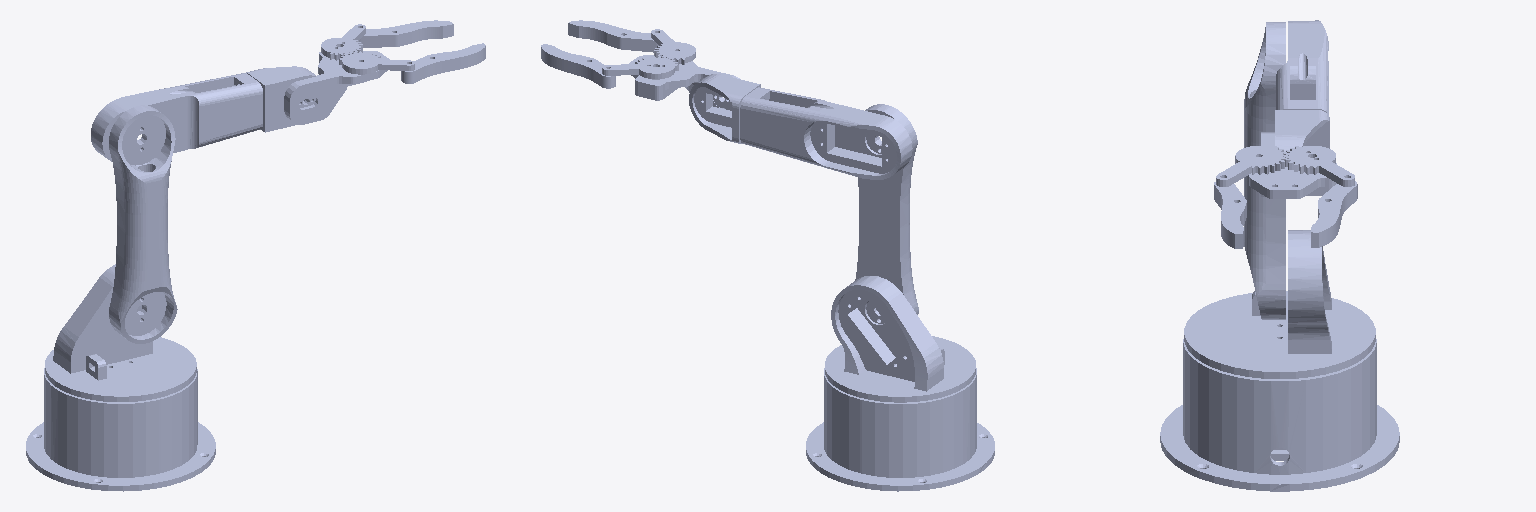
The robot description file, URDF, robot "robot_arm":
<?xml version="1.0" encoding="utf-8" ?>
<!-- This URDF was automatically created by SolidWorks to URDF Exporter! Originally created by [author] ([email redacted]) 
     Commit Version: 1.6.0-4-g7f85cfe  Build Version: 1.6.7995.38578
     For more information, please see http://wiki.ros.org/sw_urdf_exporter -->
<robot name="robot_arm">
    <link name="world" />
    <joint name="base_joint" type="fixed">
        <parent link="world" />
        <child link="base_link" />
        <origin rpy="0 0 0" xyz="0.0 0.0 0.0" />
    </joint>
    <link name="base_link">
        <inertial>
            <origin xyz="0.0001172 -3.0598E-09 0.022304" rpy="0 0 0" />
            <mass value="1.0" />
            <inertia ixx="0.00012799" ixy="-2.1831E-11" ixz="3.914E-06" iyy="0.00013766" iyz="4.0541E-13" izz="0.00020798" />
        </inertial>
        <visual>
            <origin xyz="0 0 0" rpy="0 0 0" />
            <geometry>
                <mesh filename="package://robot_arm/meshes/base_link.STL" />
            </geometry>
            <material name="">
                <color rgba="0.79216 0.81961 0.93333 1" />
            </material>
        </visual>
        <collision>
            <origin xyz="0 0 0" rpy="0 0 0" />
            <geometry>
                <mesh filename="package://robot_arm/meshes/base_link.STL" />
            </geometry>
        </collision>
    </link>
    <link name="link_1">
        <inertial>
            <origin xyz="0.001372 0.0064346 0.074289" rpy="0 0 0" />
            <mass value="0.068038" />
            <inertia ixx="4.5019E-05" ixy="-6.4175E-07" ixz="-6.2429E-06" iyy="5.8134E-05" iyz="-5.1774E-06" izz="5.4676E-05" />
        </inertial>
        <visual>
            <origin xyz="0 0 0" rpy="0 0 0" />
            <geometry>
                <mesh filename="package://robot_arm/meshes/link_1.STL" />
            </geometry>
            <material name="">
                <color rgba="0.79216 0.81961 0.93333 1" />
            </material>
        </visual>
        <collision>
            <origin xyz="0 0 0" rpy="0 0 0" />
            <geometry>
                <mesh filename="package://robot_arm/meshes/link_1.STL" />
            </geometry>
        </collision>
    </link>
    <joint name="joint_1" type="revolute">
        <origin xyz="0 0 0" rpy="0 0 0" />
        <parent link="base_link" />
        <child link="link_1" />
        <axis xyz="0 0 1" />
        <limit lower="-1.5708" upper="1.5708" effort="300" velocity="1" />
    </joint>
    <link name="link_2">
        <inertial>
            <origin xyz="-0.011661 0.058045 0.0047891" rpy="0 0 0" />
            <mass value="0.063887" />
            <inertia ixx="0.00010322" ixy="1.8909E-05" ixz="-4.7176E-08" iyy="1.29E-05" iyz="2.338E-07" izz="0.00011183" />
        </inertial>
        <visual>
            <origin xyz="0 0 0" rpy="0 0 -0.19634954" />
            <geometry>
                <mesh filename="package://robot_arm/meshes/link_2.STL" />
            </geometry>
            <material name="">
                <color rgba="0.79216 0.81961 0.93333 1" />
            </material>
        </visual>
        <collision>
            <origin xyz="0 0 0" rpy="0 0 0" />
            <geometry>
                <mesh filename="package://robot_arm/meshes/link_2.STL" />
            </geometry>
        </collision>
    </link>
    <joint name="joint_2" type="revolute">
        <origin xyz="0.013919 0 0.097276" rpy="1.5708 0 0" />
        <parent link="link_1" />
        <child link="link_2" />
        <axis xyz="0 0 -1" />
        <limit lower="-1.5708" upper="1.5708" effort="300" velocity="1" />
    </joint>
    <link name="link_3">
        <inertial>
            <origin xyz="-0.014622 -0.054484 -0.010131" rpy="0 0 0" />
            <mass value="0.066769" />
            <inertia ixx="5.5428E-05" ixy="-1.1589E-05" ixz="7.8249E-08" iyy="1.4985E-05" iyz="2.7745E-07" izz="6.3172E-05" />
        </inertial>
        <visual>
            <origin xyz="0 0 0" rpy="0 0 0.26145032" />
            <geometry>
                <mesh filename="package://robot_arm/meshes/link_3.STL" />
            </geometry>
            <material name="">
                <color rgba="0.79216 0.81961 0.93333 1" />
            </material>
        </visual>
        <collision>
            <origin xyz="0 0 0" rpy="0 0 0" />
            <geometry>
                <mesh filename="package://robot_arm/meshes/link_3.STL" />
            </geometry>
        </collision>
    </link>
    <joint name="joint_3" type="revolute">
        <origin xyz="0 0.12 0" rpy="0 0 1.5708" />
        <parent link="link_2" />
        <child link="link_3" />
        <axis xyz="0 0 -1" />
        <limit lower="-1.5708" upper="1.5708" effort="300" velocity="1" />
    </joint>
    <link name="link_4">
        <inertial>
            <origin xyz="0.043213 -0.025797 -0.00098479" rpy="0 0 0" />
            <mass value="0.031724" />
            <inertia ixx="6.1359E-06" ixy="4.5077E-06" ixz="1.1136E-06" iyy="9.506E-06" iyz="-5.5901E-07" izz="1.1066E-05" />
        </inertial>
        <visual>
            <origin xyz="0 0 0" rpy="0 0 0.75" />
            <geometry>
                <mesh filename="package://robot_arm/meshes/link_4.STL" />
            </geometry>
            <material name="">
                <color rgba="0.79216 0.81961 0.93333 1" />
            </material>
        </visual>
        <collision>
            <origin xyz="0 0 0" rpy="0 0 0" />
            <geometry>
                <mesh filename="package://robot_arm/meshes/link_4.STL" />
            </geometry>
        </collision>
    </link>
    <joint name="joint_4" type="revolute">
        <origin xyz="0 -0.11875 0" rpy="0 0 -1.5708" />
        <parent link="link_3" />
        <child link="link_4" />
        <axis xyz="0 0 1" />
        <limit lower="-1.5708" upper="1.5708" effort="300" velocity="1" />
    </joint>
    <transmission name="link_1_trans">
        <type>transmission_interface/SimpleTransmission</type>
        <joint name="joint_1">
            <hardwareInterface>hardware_interface/PositionJointInterface</hardwareInterface>
        </joint>
        <actuator name="link_1_motor">
            <hardwareInterface>hardware_interface/PositionJointInterface</hardwareInterface>
            <mechanicalReduction>1</mechanicalReduction>
        </actuator>
    </transmission>
    <transmission name="link_2_trans">
        <type>transmission_interface/SimpleTransmission</type>
        <joint name="joint_2">
            <hardwareInterface>hardware_interface/PositionJointInterface</hardwareInterface>
        </joint>
        <actuator name="link_2_motor">
            <hardwareInterface>hardware_interface/PositionJointInterface</hardwareInterface>
            <mechanicalReduction>1</mechanicalReduction>
        </actuator>
    </transmission>
    <transmission name="link_3_trans">
        <type>transmission_interface/SimpleTransmission</type>
        <joint name="joint_3">
            <hardwareInterface>hardware_interface/PositionJointInterface</hardwareInterface>
        </joint>
        <actuator name="link_3_motor">
            <hardwareInterface>hardware_interface/PositionJointInterface</hardwareInterface>
            <mechanicalReduction>1</mechanicalReduction>
        </actuator>
    </transmission>
    <transmission name="link_4_trans">
        <type>transmission_interface/SimpleTransmission</type>
        <joint name="joint_4">
            <hardwareInterface>hardware_interface/PositionJointInterface</hardwareInterface>
        </joint>
        <actuator name="link_4_motor">
            <hardwareInterface>hardware_interface/PositionJointInterface</hardwareInterface>
            <mechanicalReduction>1</mechanicalReduction>
        </actuator>
    </transmission>
    <gazebo>
        <plugin name="control" filename="libgazebo_ros_control.so">
            <robotNamespace>/</robotNamespace>
        </plugin>
        <plugin name="gazebo_ros_control">
            <robotNamespace>/</robotNamespace>
        </plugin>
    </gazebo>
    <gazebo reference="link_1">
        <selfCollide>true</selfCollide>
    </gazebo>
    <gazebo reference="link_2">
        <selfCollide>true</selfCollide>
    </gazebo>
    <gazebo reference="link_3">
        <selfCollide>true</selfCollide>
    </gazebo>
    <gazebo reference="link_4">
        <selfCollide>true</selfCollide>
    </gazebo>
</robot>

--- Render facts (derived) ---
3 views of the same robot in one strip: view 1: azimuth 30°, elevation 25°; view 2: azimuth 150°, elevation 25°; view 3: azimuth 270°, elevation 25° (orthographic).
Robot: robot_arm — 6 links, 5 joints (4 revolute, 1 fixed); root link world; default pose: all joints at 0.
Visible links, largest first — view 1: base_link, link_2, link_1, link_3, link_4; view 2: base_link, link_3, link_1, link_4, link_2; view 3: base_link, link_1, link_4, link_2, link_3.
Link boxes in pixels (<box>): base_link: <box>26,368,215,491</box>; link_2: <box>109,105,177,343</box>; link_1: <box>45,264,196,401</box>; link_3: <box>91,66,315,161</box>; link_4: <box>284,20,485,124</box>; base_link: <box>806,368,994,491</box>; link_3: <box>689,74,912,179</box>; link_1: <box>825,276,975,402</box>; link_4: <box>541,20,739,107</box>; link_2: <box>855,104,918,323</box>; base_link: <box>1160,339,1399,491</box>; link_1: <box>1184,230,1375,378</box>; link_4: <box>1214,132,1357,248</box>; link_2: <box>1244,22,1285,319</box>; link_3: <box>1275,20,1329,151</box>.
Bounding box of the posed robot: 0.3166 × 0.1213 × 0.2388 m (x, y, z).
5 mesh visuals loaded from 5 distinct referenced files (5 binary STL).